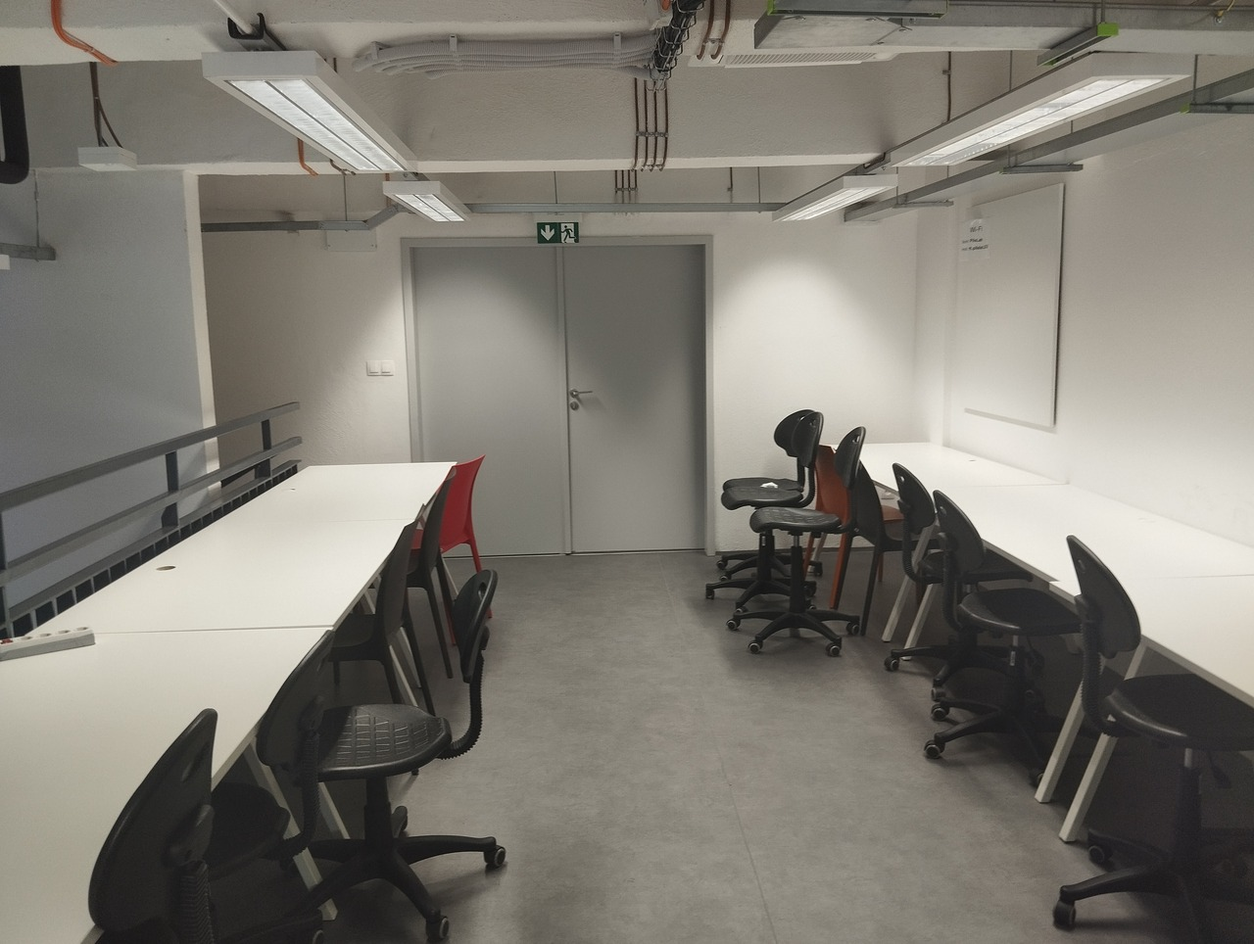Door-handle: (717, 407, 865, 662), (366, 359, 396, 377)
